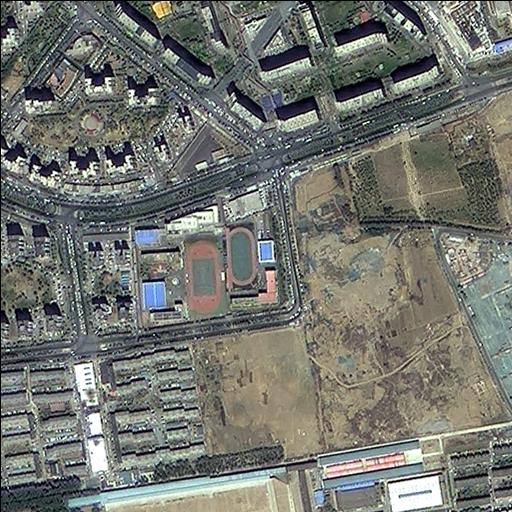school: (128, 194, 226, 323), (230, 212, 283, 311)
